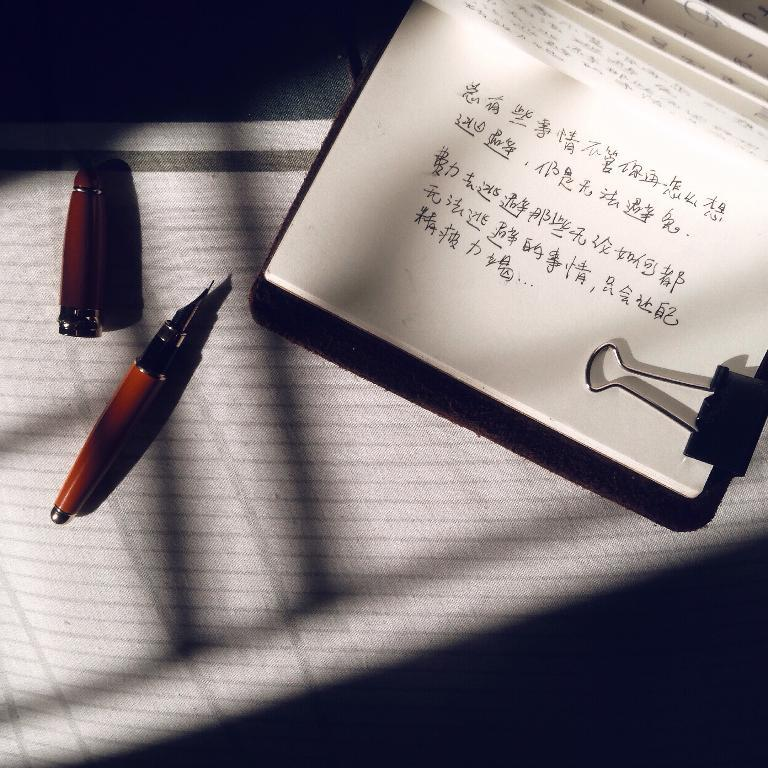pen: (41, 278, 227, 529)
